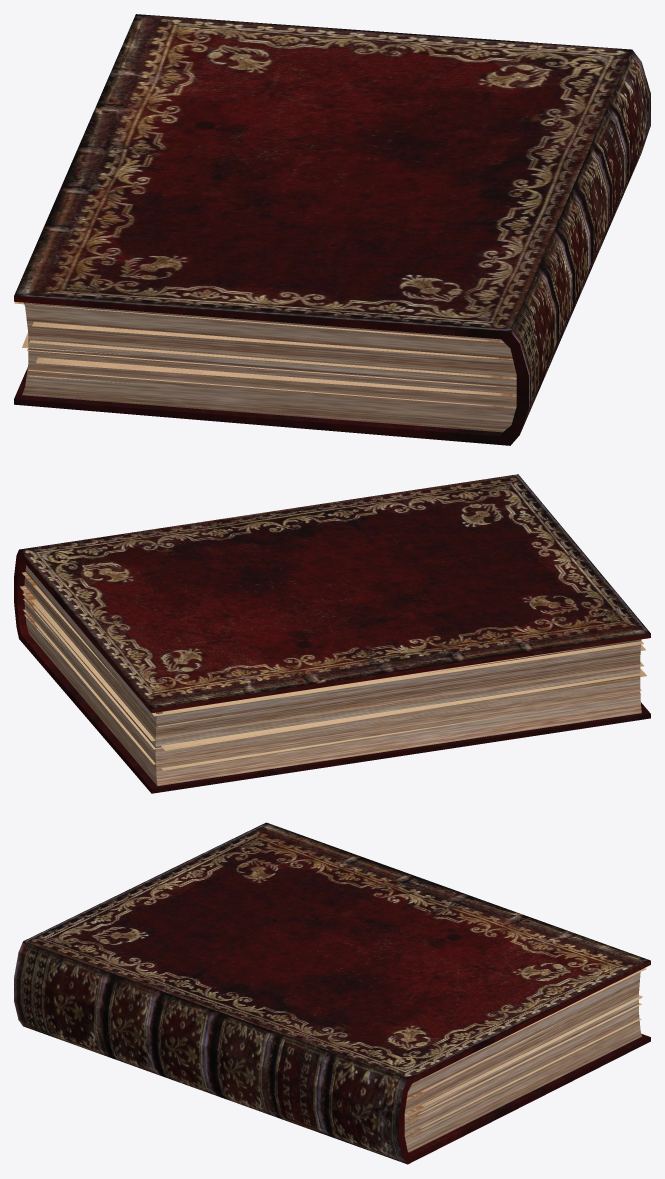
Rendered from BSN_Education_Ani_BookD.gltf.
3 renders of one model, top to bottom at view 1: azimuth 30°, elevation 25°; view 2: azimuth 150°, elevation 25°; view 3: azimuth 270°, elevation 25°, orthographic. The views are drawn at different scales.
Parts seen in each view (by area): view 1: book1.001; view 2: book1.001; view 3: book1.001.
Part boxes in pixels (<box>): book1.001: <box>14,14,650,445</box>; book1.001: <box>14,474,650,793</box>; book1.001: <box>14,822,650,1164</box>.
Size of the model in its own units: 15.61 by 2.35 by 15.94.
1 material, 1 textured.
